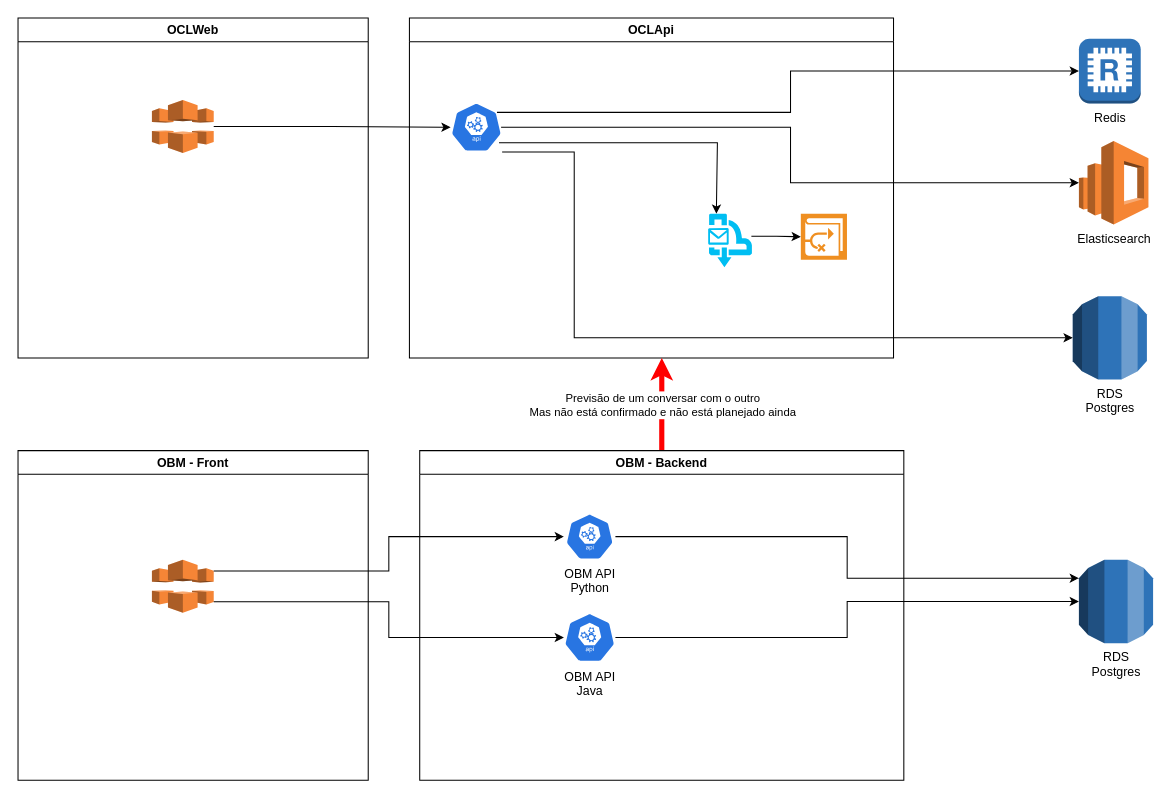
The diagram is 1171 pixels wide and 798 high, and some of its shapes have lost their labels. Each missing label, with the centre of its shape:
"Celery 5 Processos Python" goes at (x=729, y=240).
"Flower Orchestrator Python" goes at (x=823, y=236).
"OBM React" goes at (x=182, y=586).
"OCLAPI Python" goes at (x=476, y=126).
"OCLWeb React" goes at (x=182, y=126).
